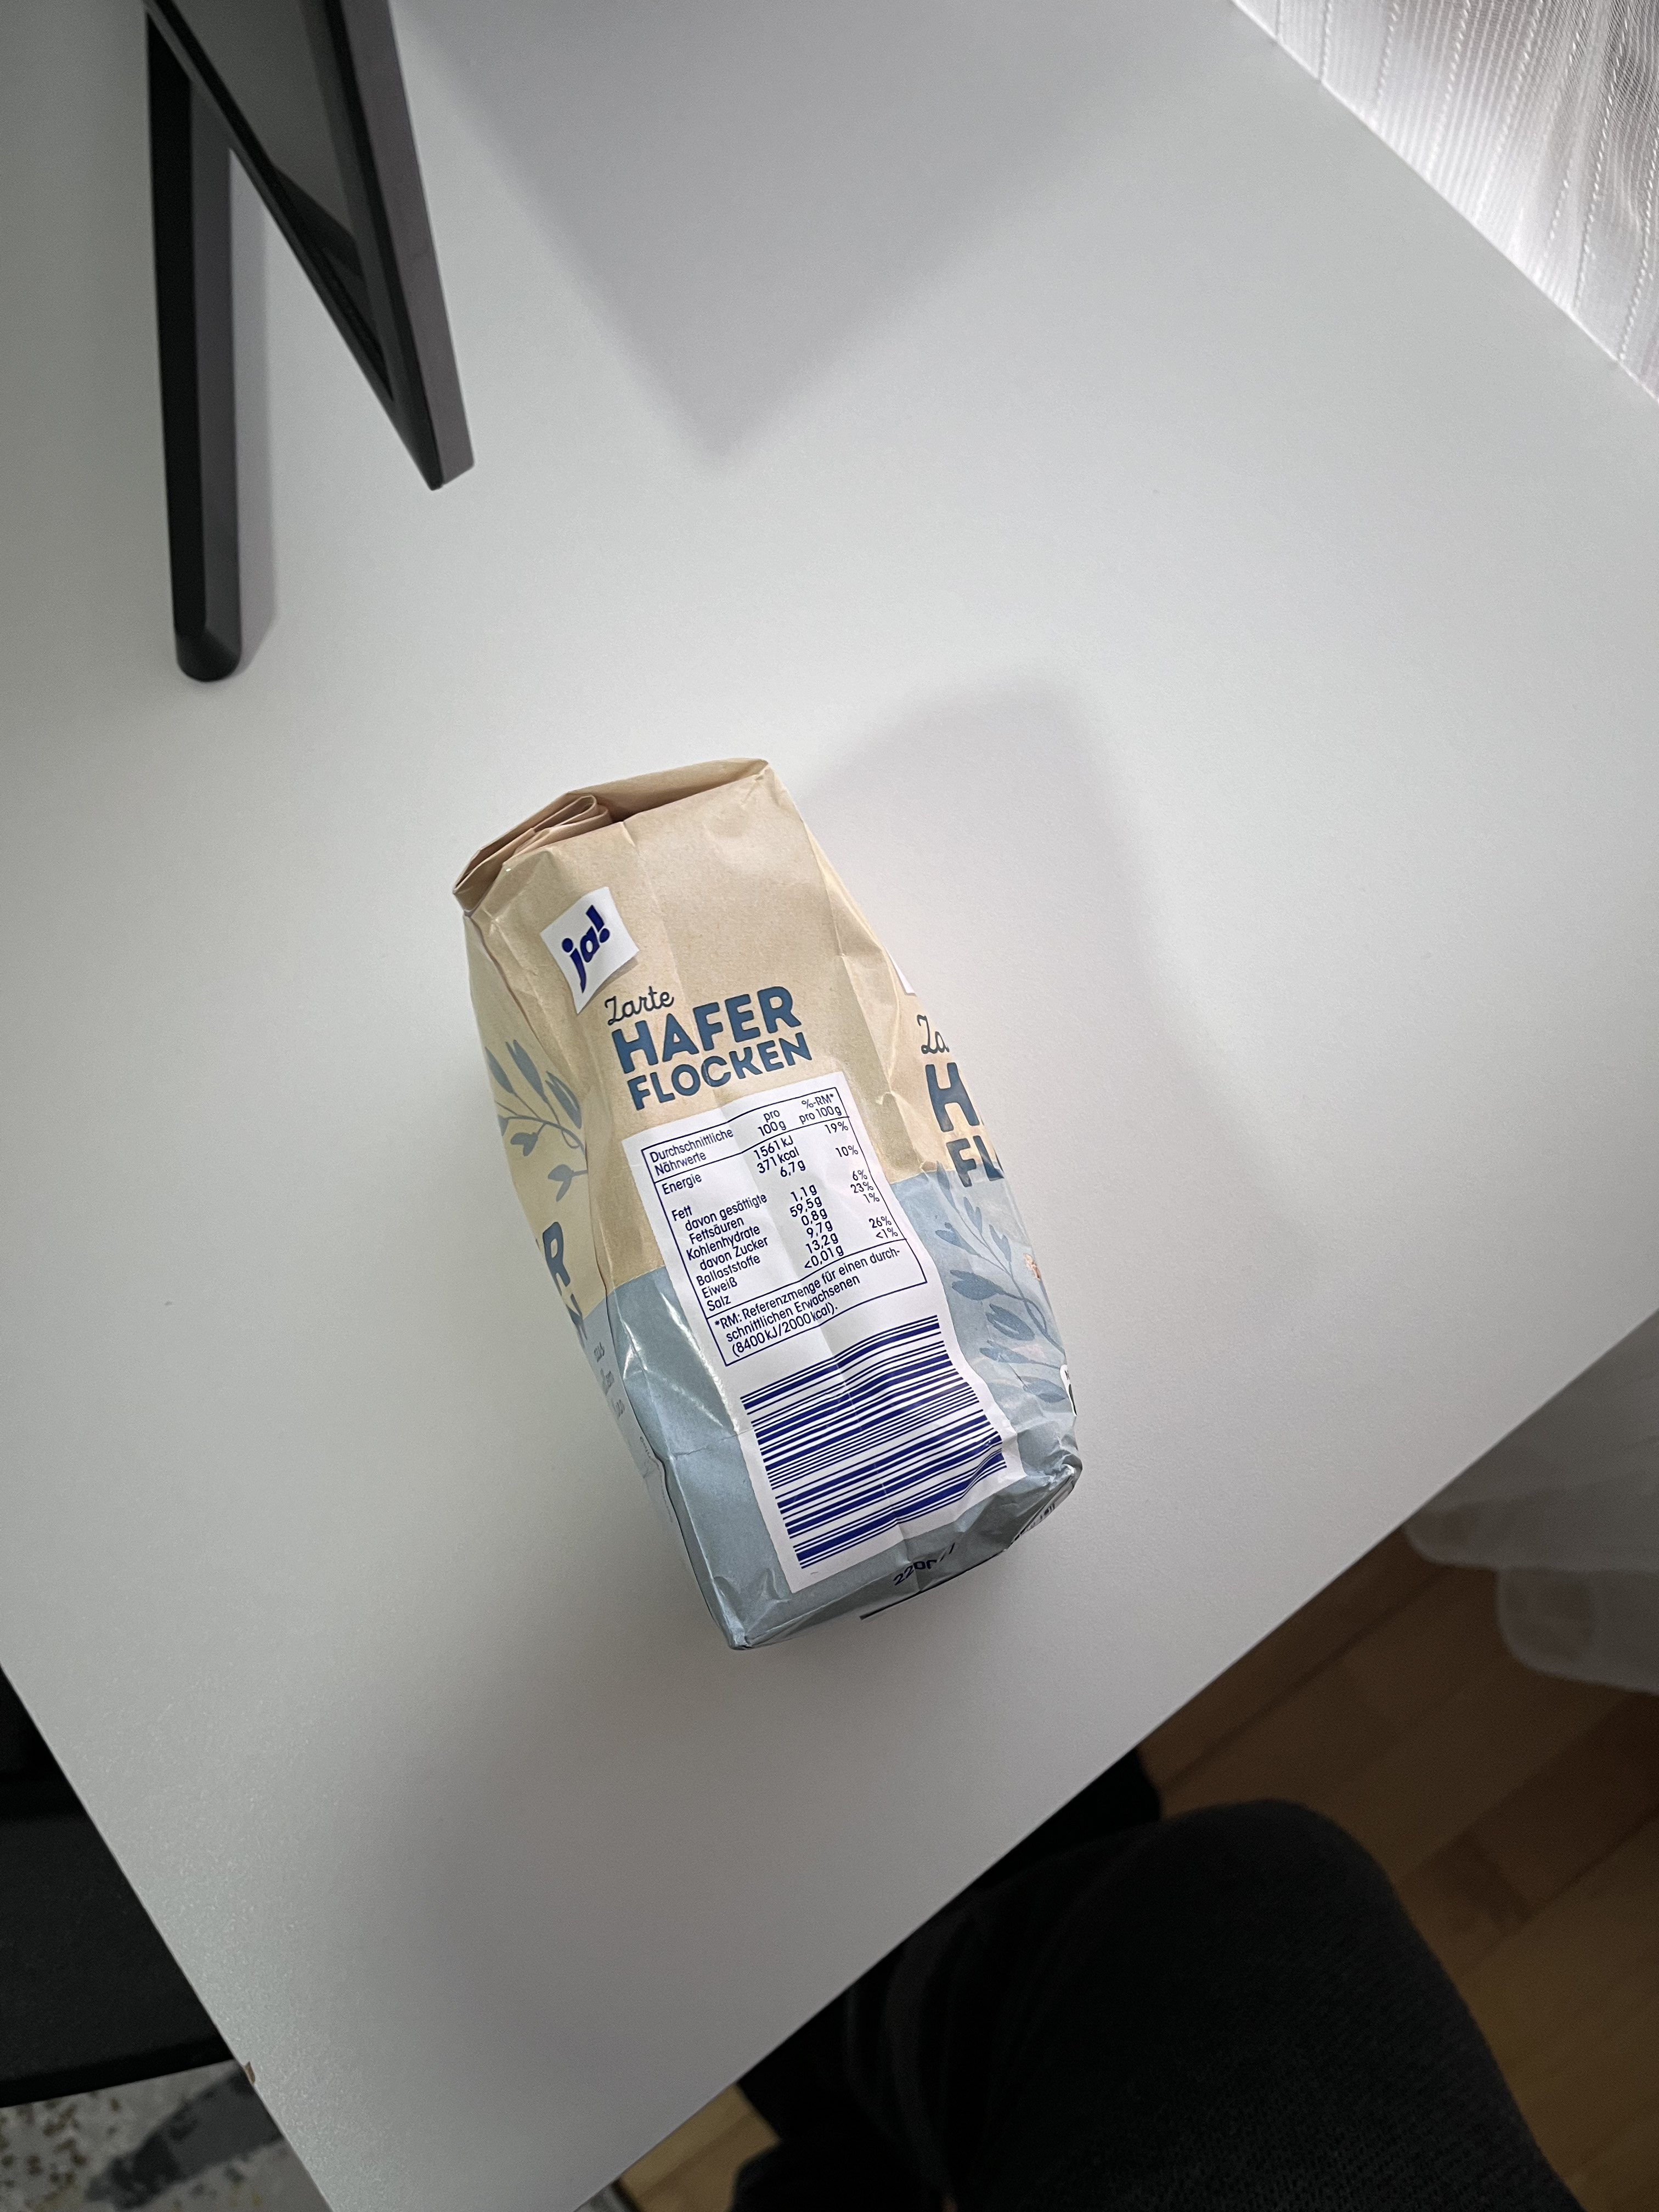haferflocken_ja: (455, 754, 1091, 1653)
